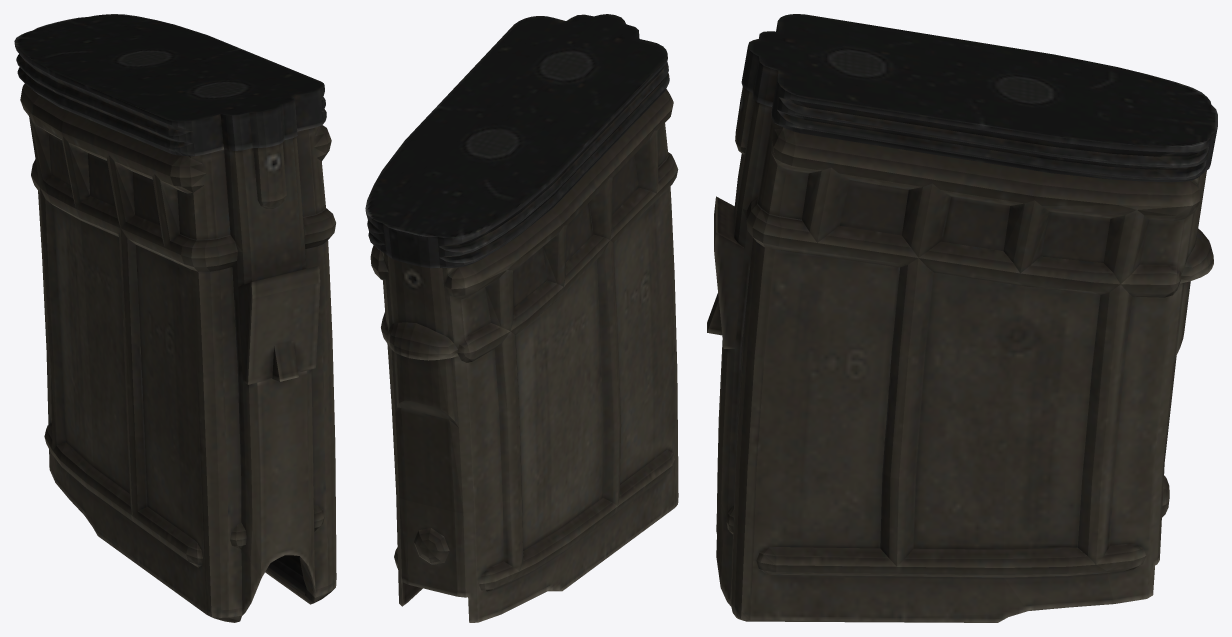
The picture shows the model from 3 angles, left to right: view 1: azimuth 30°, elevation 25°; view 2: azimuth 150°, elevation 25°; view 3: azimuth 270°, elevation 25°; orthographic projection. The views are drawn at different scales.
Visible parts, largest first — view 1: TW_630e1adbbd357927e4007c09_PZ_Import; view 2: TW_630e1adbbd357927e4007c09_PZ_Import; view 3: TW_630e1adbbd357927e4007c09_PZ_Import.
Boxes of the visible parts, left/top/right/bottom form: TW_630e1adbbd357927e4007c09_PZ_Import: left=14, top=14, right=336, bottom=622; TW_630e1adbbd357927e4007c09_PZ_Import: left=365, top=14, right=678, bottom=622; TW_630e1adbbd357927e4007c09_PZ_Import: left=707, top=14, right=1217, bottom=622.
Size of the model in its own units: 0.017 by 0.0426 by 0.0511.
Materials: 1 (1 with a texture image).
